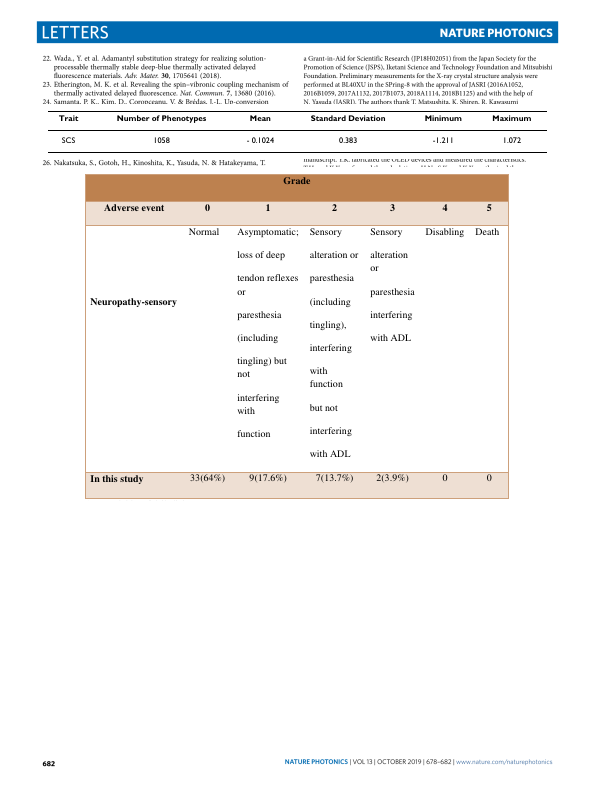bordered: (84, 173, 508, 498)
borderless: (47, 109, 547, 152)
cell: (236, 225, 300, 440), (309, 225, 359, 460), (369, 225, 416, 344), (89, 294, 178, 308), (103, 200, 165, 214), (115, 114, 207, 123), (89, 471, 145, 484), (309, 114, 386, 123), (425, 225, 465, 238), (248, 471, 288, 484), (315, 471, 354, 484), (189, 471, 226, 484), (375, 471, 410, 484), (188, 225, 220, 238), (282, 173, 311, 187), (491, 114, 532, 123), (423, 114, 462, 123), (474, 225, 500, 238), (245, 136, 275, 144), (248, 114, 271, 123), (57, 114, 79, 123), (431, 136, 454, 144), (501, 136, 522, 144), (338, 136, 358, 144), (152, 136, 170, 144), (60, 136, 76, 144), (204, 200, 211, 214), (265, 200, 272, 214), (331, 200, 338, 214), (389, 200, 396, 214), (441, 200, 448, 214), (486, 200, 493, 214), (441, 471, 448, 484), (486, 471, 493, 484)
